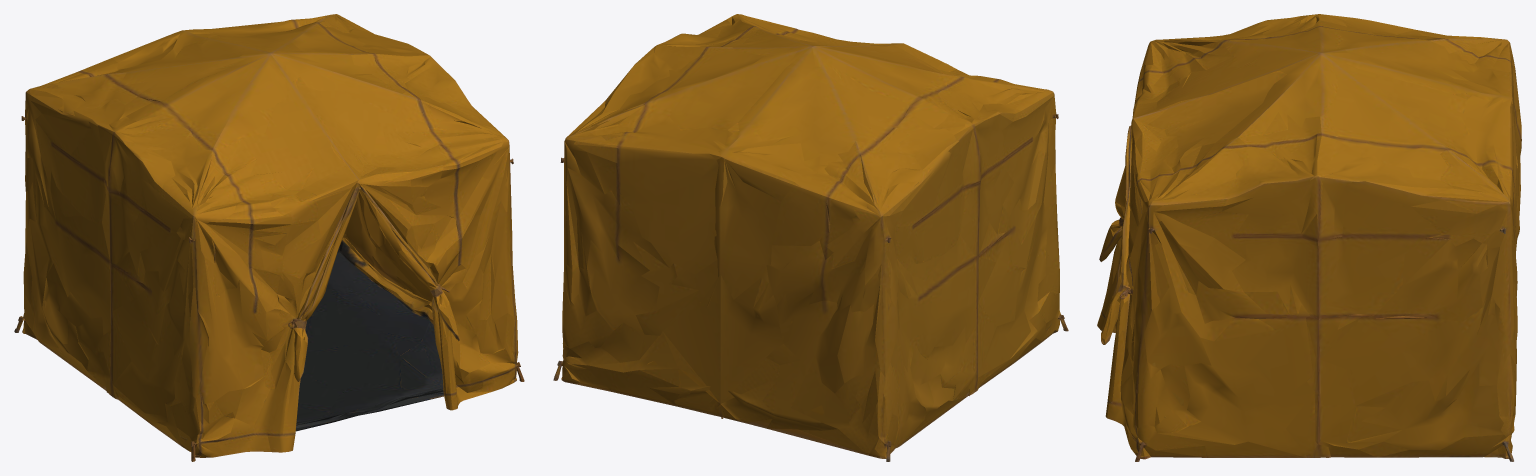
File: web.glb
3 views of the same model, side by side, from view 1: azimuth 30°, elevation 25°; view 2: azimuth 150°, elevation 25°; view 3: azimuth 270°, elevation 25° (orthographic). The views are drawn at different scales.
Visible parts, largest first — view 1: output_unwrapped; view 2: output_unwrapped; view 3: output_unwrapped.
Part boxes in pixels (box(x1,y1,x2,y2)): output_unwrapped: box(14, 14, 524, 461); output_unwrapped: box(553, 14, 1068, 461); output_unwrapped: box(1097, 14, 1521, 461).
Size of the model in its own units: 1.82 by 1.59 by 1.89.
1 material, 1 textured.
